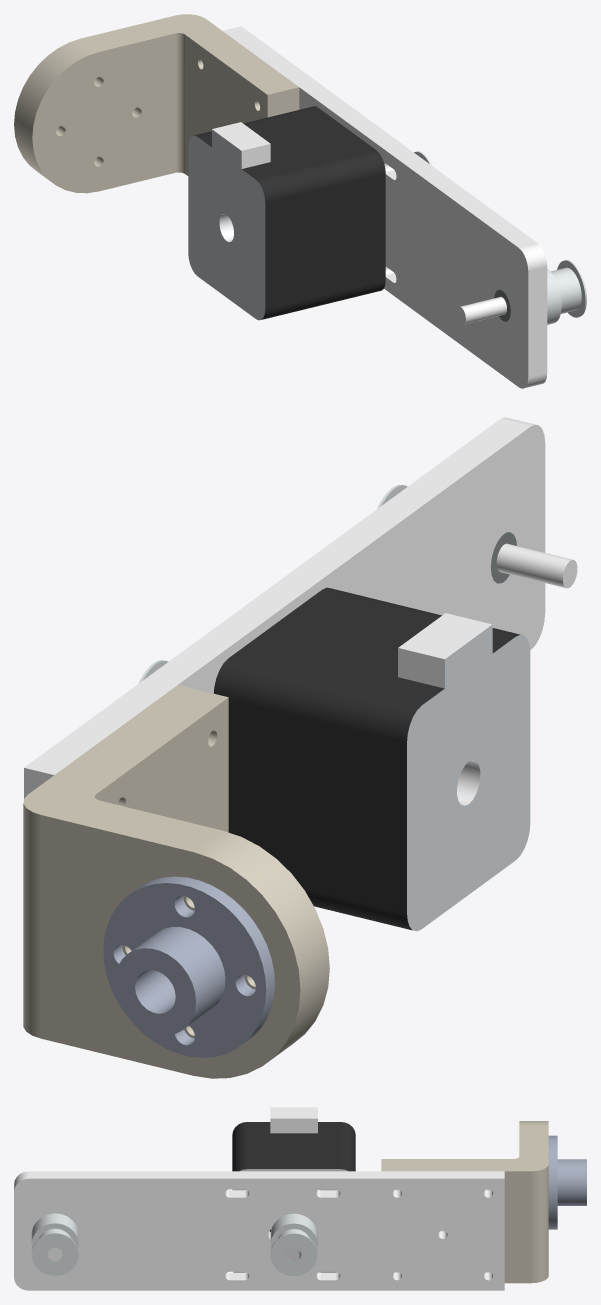
File: axis3.fbx
3 views of the same model, one above another, from view 1: azimuth 30°, elevation 25°; view 2: azimuth 150°, elevation 25°; view 3: azimuth 270°, elevation 25° (orthographic). The views are drawn at different scales.
Parts seen in each view (by area): view 1: ÇÐ³ý-ÀÉì3, Ô²½Ç2, Ô²½Ç1, ÇÐ³ý-ÀÉì1, Í¹Ì¨-ÀÉì1; view 2: ÇÐ³ý-ÀÉì3, Ô²½Ç2, Ô²½Ç1, ÇÐ³ý-ÀÉì2, Í¹Ì¨-ÀÉì1; view 3: Ô²½Ç1, Ô²½Ç2, ÇÐ³ý-ÀÉì3, ÇÐ³ý-ÀÉì1 (×2), ÇÐ³ý-ÀÉì2.
Boxes of the visible parts, bbox=[...] form: ÇÐ³ý-ÀÉì3: bbox=[188, 106, 385, 320]; Ô²½Ç2: bbox=[14, 14, 299, 193]; Ô²½Ç1: bbox=[222, 26, 547, 388]; ÇÐ³ý-ÀÉì1: bbox=[547, 260, 586, 324]; Í¹Ì¨-ÀÉì1: bbox=[456, 297, 506, 324]; ÇÐ³ý-ÀÉì3: bbox=[213, 587, 530, 931]; Ô²½Ç2: bbox=[23, 685, 329, 1078]; Ô²½Ç1: bbox=[24, 417, 545, 798]; ÇÐ³ý-ÀÉì2: bbox=[103, 876, 274, 1057]; Í¹Ì¨-ÀÉì1: bbox=[496, 543, 577, 588]; Ô²½Ç1: bbox=[14, 1171, 504, 1290]; Ô²½Ç2: bbox=[381, 1121, 548, 1283]; ÇÐ³ý-ÀÉì3: bbox=[232, 1107, 355, 1272]; ÇÐ³ý-ÀÉì1 (×2): bbox=[31, 1213, 317, 1275]; ÇÐ³ý-ÀÉì2: bbox=[548, 1135, 586, 1229].
Bounding box in the file's own units: 3.11 × 1.87 × 7.68.
